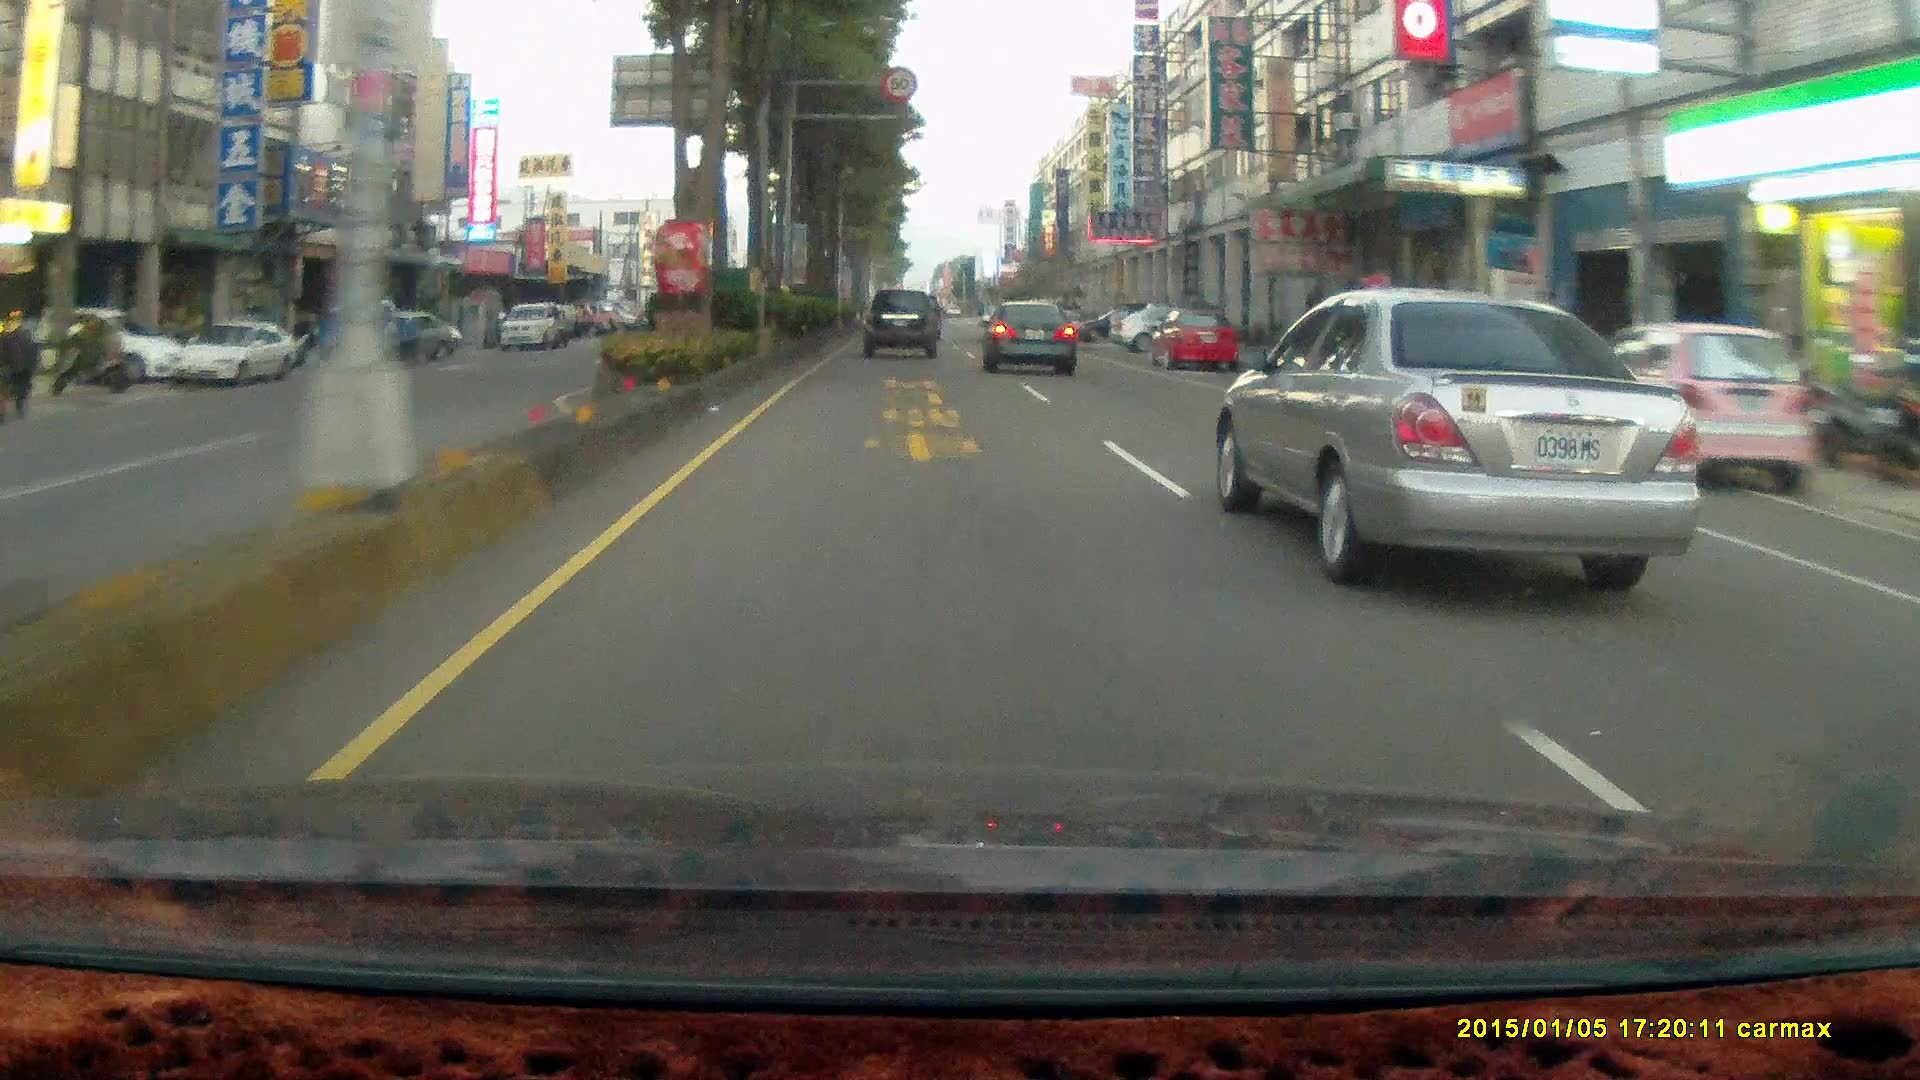pedestrian: (5, 318, 38, 413), (9, 315, 36, 417), (0, 313, 25, 418)
vehicle: (1227, 286, 1718, 574), (1579, 319, 1814, 503), (1581, 319, 1809, 492), (1351, 298, 1542, 399), (33, 303, 181, 380), (170, 316, 301, 390), (322, 296, 437, 373), (169, 319, 297, 384), (321, 294, 420, 373), (984, 300, 1081, 378), (979, 298, 1075, 375), (1145, 304, 1238, 370), (1153, 307, 1240, 376), (864, 287, 942, 362), (1107, 294, 1217, 344), (860, 284, 938, 354), (365, 308, 458, 360), (499, 301, 562, 350), (1073, 306, 1149, 341)
